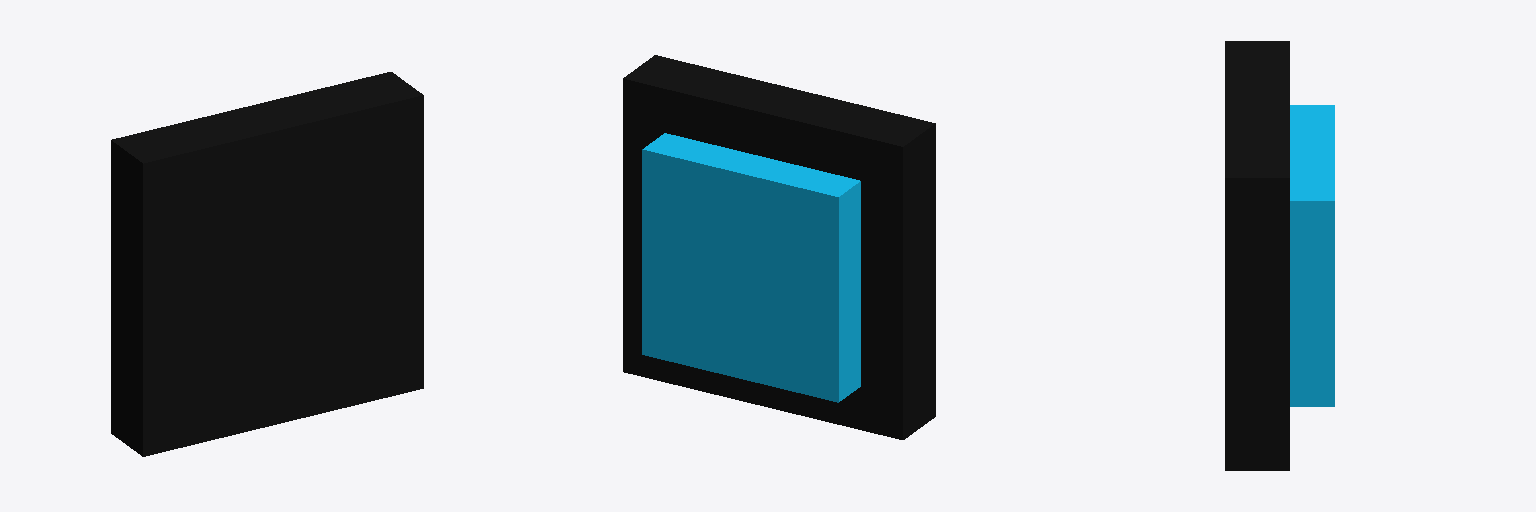
3 renders of one model, left to right at view 1: azimuth 30°, elevation 25°; view 2: azimuth 150°, elevation 25°; view 3: azimuth 270°, elevation 25°, orthographic.
Visible parts, largest first — view 1: Cube.001; view 2: Cube.001; view 3: Cube.001.
Part boxes in pixels (x1,y1,x2,y2): Cube.001: (111, 72, 423, 456); Cube.001: (623, 55, 935, 439); Cube.001: (1225, 41, 1334, 470).
Bounding box in the file's own units: 2 × 2 × 0.6787.
1 materials, 1 textured.